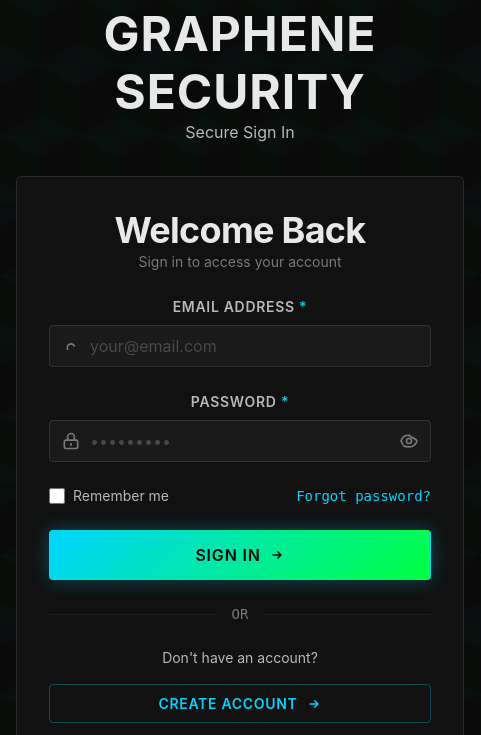
Test case: LoginPage › Form Validation › should clear validation errors when user starts typing
Note: Trigger validation error
In the field labelled "Email Address *": coordinates (240, 346) [49,325,431,367], type "invalid-email"
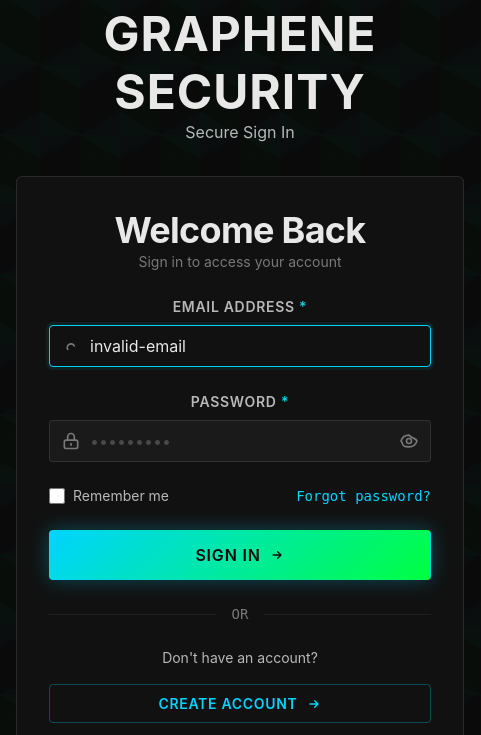
Press Tab
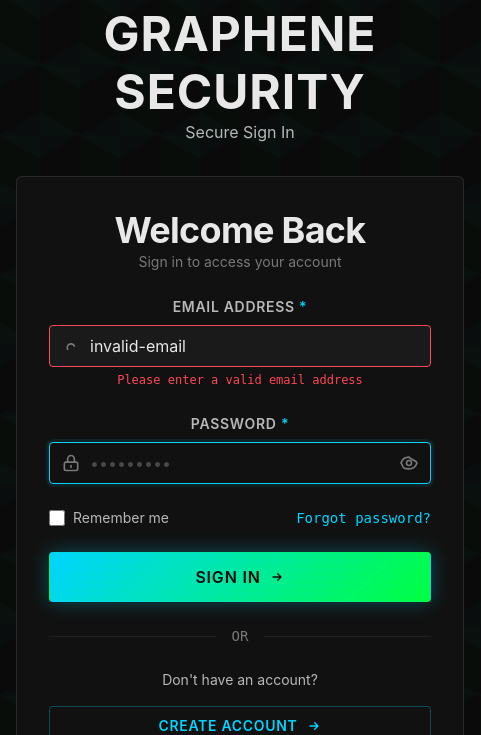
expect the text "Please enter a valid email address" is shown: met, box [117,373,363,387]
Note: Start typing again - error should clear
In the field labelled "Email Address *": coordinates (240, 346) [49,325,431,367], type "@example.com"
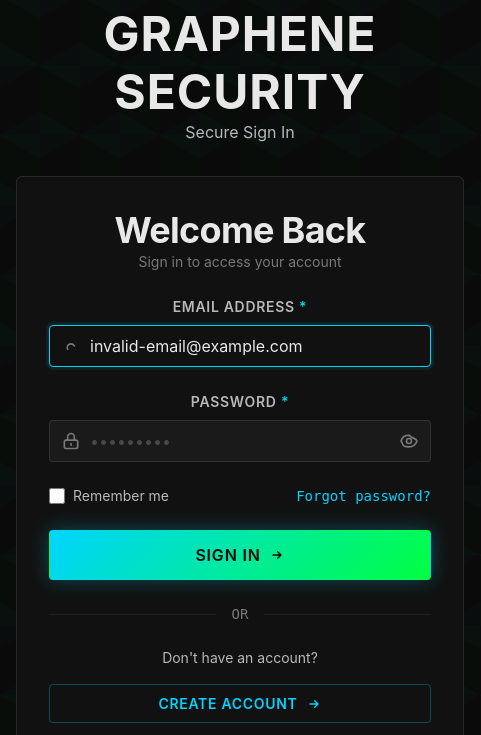
expect the text "Please enter a valid email address" is gone: met
